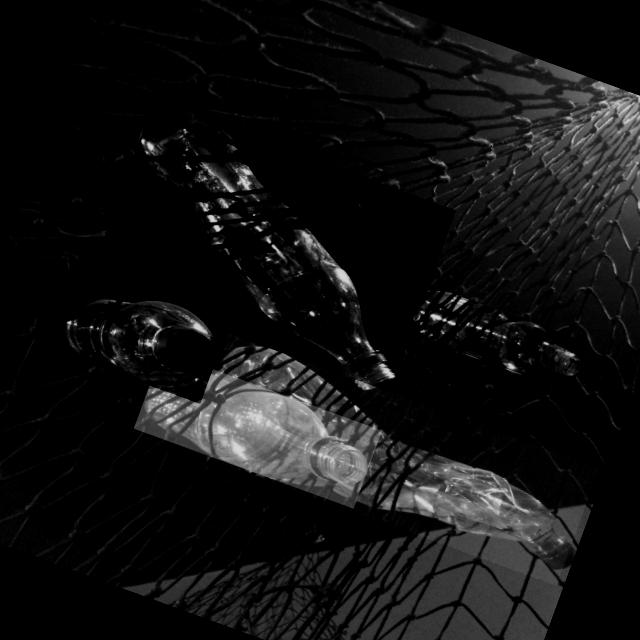Bottle cap: (156, 327, 217, 373)
Clear plastic bottle: (214, 347, 562, 570), (140, 112, 395, 391), (145, 374, 366, 484), (411, 291, 579, 377), (64, 300, 217, 389)
